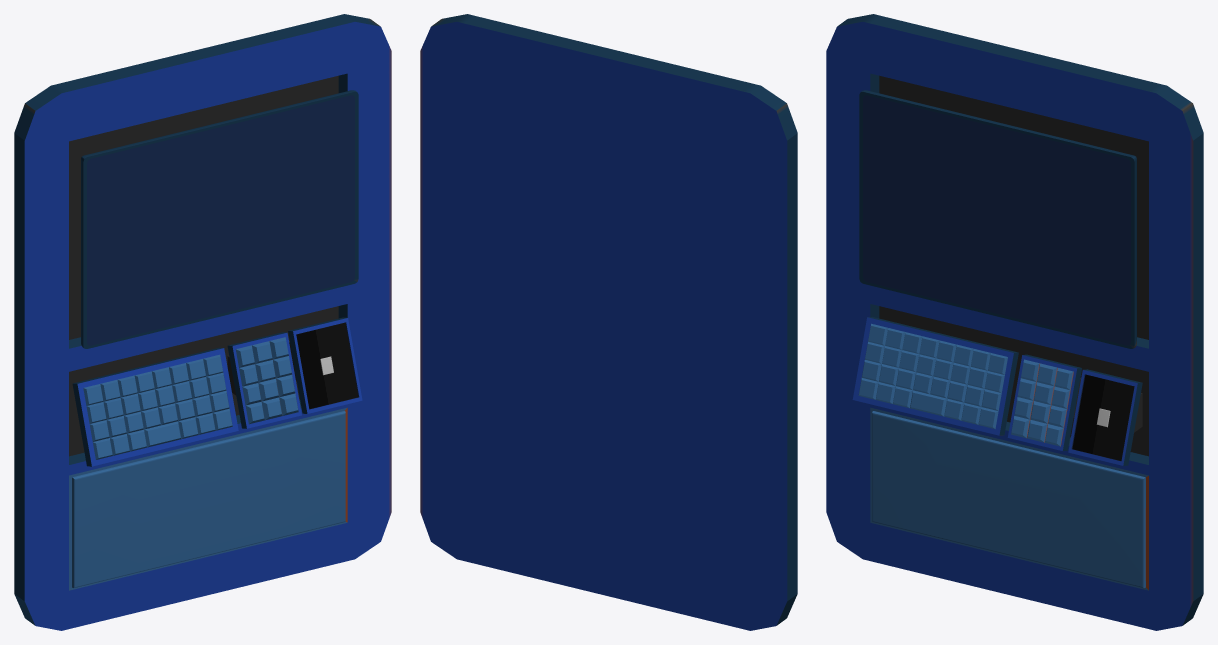
Rendered from Computer Panel.fbx.
The picture shows the model from 3 angles, left to right: view 1: azimuth 30°, elevation 25°; view 2: azimuth 150°, elevation 25°; view 3: azimuth 330°, elevation 25°; orthographic projection.
Visible parts, largest first — view 1: Panel_Base, Computer_Screen; view 2: Panel_Base; view 3: Panel_Base, Computer_Screen.
Part boxes in pixels (x1,y1,x2,y2): Panel_Base: (14, 14, 391, 630); Computer_Screen: (87, 95, 354, 345); Panel_Base: (420, 14, 797, 630); Panel_Base: (826, 14, 1203, 630); Computer_Screen: (863, 95, 1130, 345).
Size of the model in its own units: 86.49 by 121 by 13.08.
